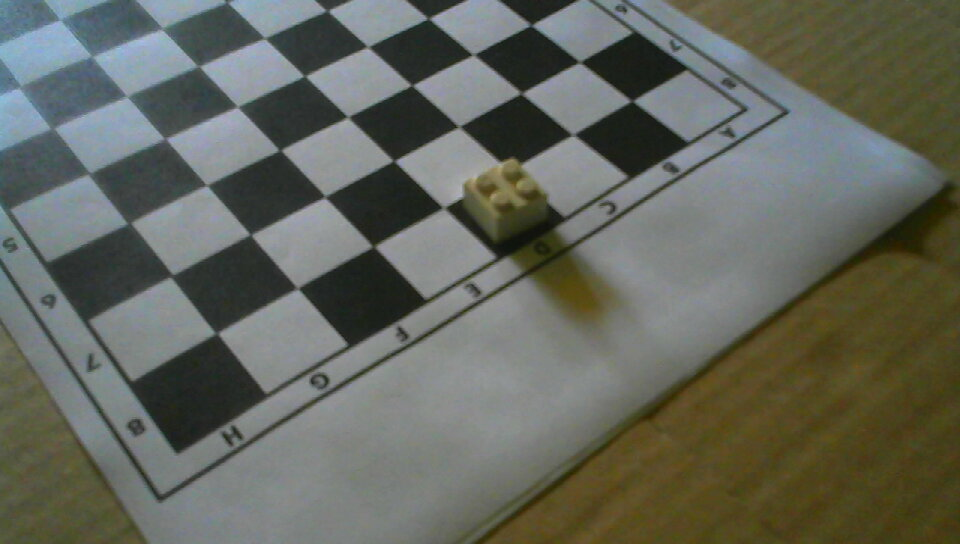wp: (461, 157, 548, 241)
